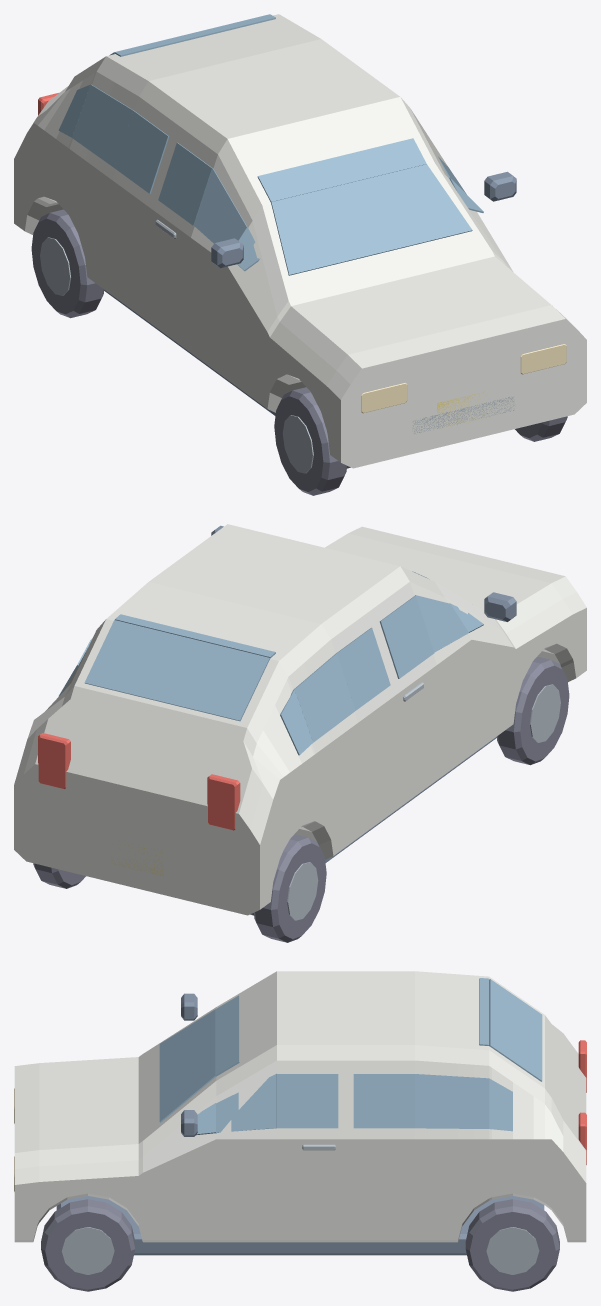
File: HK_Kei_Hatch.glb
3 views of the same model, one above another, from view 1: azimuth 30°, elevation 25°; view 2: azimuth 150°, elevation 25°; view 3: azimuth 270°, elevation 25° (orthographic). The views are drawn at different scales.
Visible parts, largest first — view 1: HK_Kei_Hatch_BodyMain, HK_Kei_Hatch_Glass, HK_Kei_Hatch_Tire_FR, HK_Kei_Hatch_Tire_RR, HK_Kei_Hatch_Tire_FL; view 2: HK_Kei_Hatch_BodyMain, HK_Kei_Hatch_Glass, HK_Kei_Hatch_Tire_RR, HK_Kei_Hatch_Tire_FR, HK_Kei_Hatch_Tire_RL; view 3: HK_Kei_Hatch_BodyMain, HK_Kei_Hatch_Glass, HK_Kei_Hatch_Tire_FL, HK_Kei_Hatch_Tire_RL.
Part boxes in pixels (left/top/right/bottom): HK_Kei_Hatch_BodyMain: left=14, top=14, right=586, bottom=468; HK_Kei_Hatch_Glass: left=58, top=14, right=483, bottom=275; HK_Kei_Hatch_Tire_FR: left=274, top=387, right=347, bottom=495; HK_Kei_Hatch_Tire_RR: left=31, top=209, right=104, bottom=318; HK_Kei_Hatch_Tire_FL: left=515, top=416, right=567, bottom=441; HK_Kei_Hatch_BodyMain: left=14, top=524, right=586, bottom=915; HK_Kei_Hatch_Glass: left=58, top=571, right=483, bottom=755; HK_Kei_Hatch_Tire_RR: left=253, top=834, right=326, bottom=942; HK_Kei_Hatch_Tire_FR: left=496, top=656, right=569, bottom=765; HK_Kei_Hatch_Tire_RL: left=33, top=863, right=85, bottom=888; HK_Kei_Hatch_BodyMain: left=14, top=971, right=586, bottom=1255; HK_Kei_Hatch_Glass: left=159, top=978, right=542, bottom=1135; HK_Kei_Hatch_Tire_FL: left=41, top=1199, right=135, bottom=1291; HK_Kei_Hatch_Tire_RL: left=465, top=1199, right=559, bottom=1291.
Bounding box in the file's own units: 1.79 × 1.52 × 3.4.
